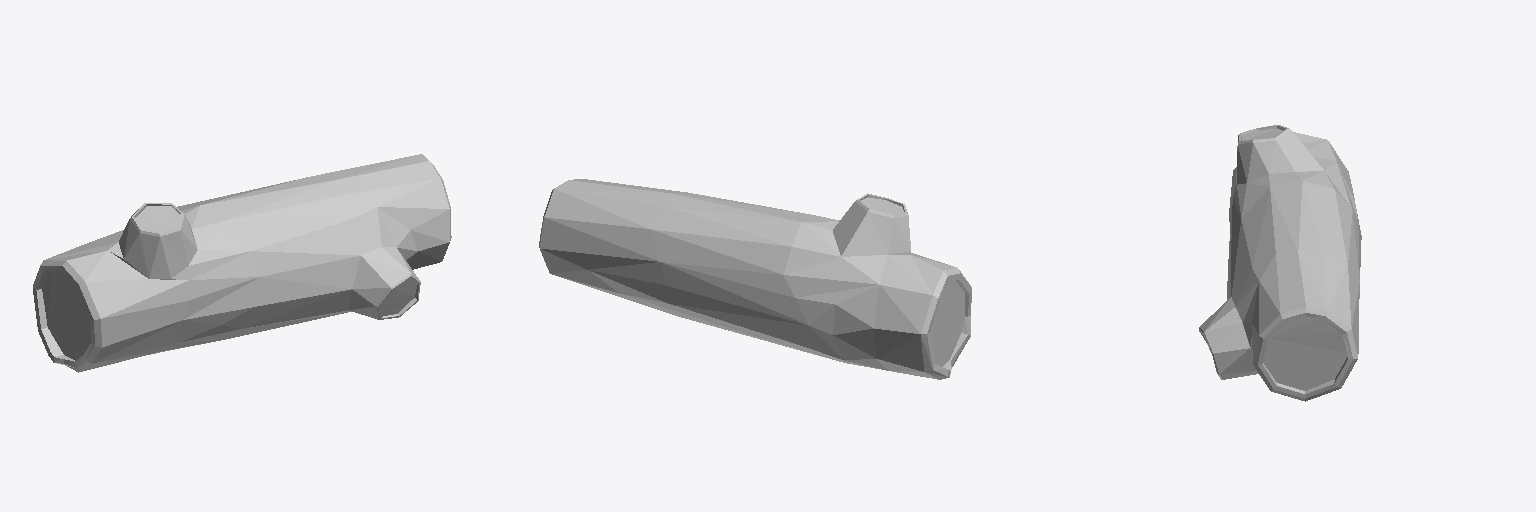
The model's file is Log_4.obj.
3 views of the same model, side by side, from view 1: azimuth 30°, elevation 25°; view 2: azimuth 150°, elevation 25°; view 3: azimuth 270°, elevation 25° (orthographic).
Parts seen in each view (by area): view 1: Cube.083_Cube.233; view 2: Cube.083_Cube.233; view 3: Cube.083_Cube.233.
Part boxes in pixels (x1,y1,x2,y2): Cube.083_Cube.233: (33, 154, 451, 372); Cube.083_Cube.233: (539, 179, 971, 379); Cube.083_Cube.233: (1199, 125, 1361, 401).
Size of the model in its own units: 1.55 by 0.5832 by 0.5678.